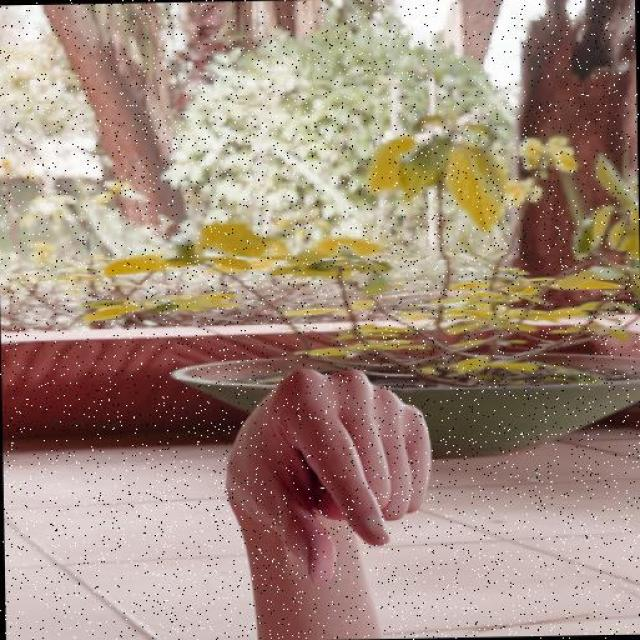Q: (219, 362, 438, 592)
